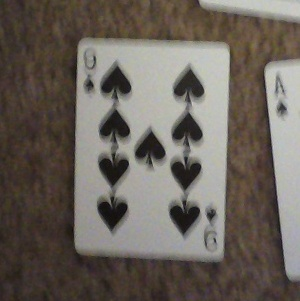card: (68, 38, 232, 263)
